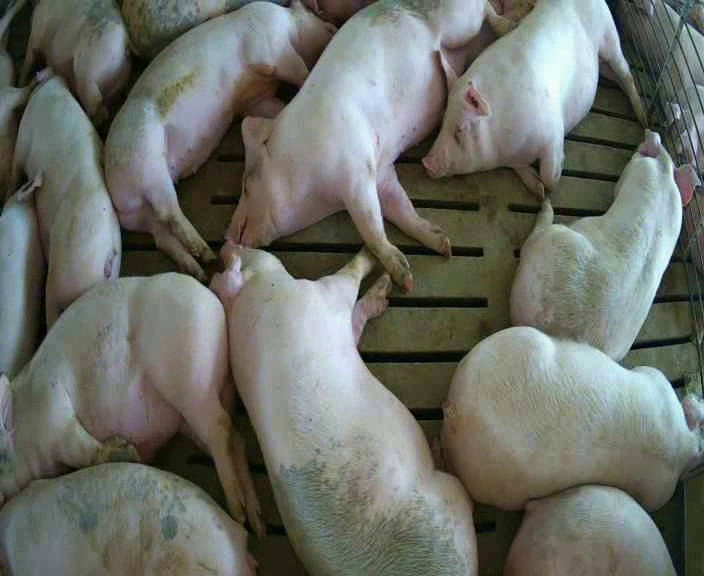pig: (227, 1, 533, 290), (211, 242, 476, 574), (0, 273, 262, 532), (104, 2, 335, 278), (443, 326, 703, 509), (511, 130, 702, 360), (423, 3, 644, 196), (5, 66, 120, 326), (504, 485, 675, 574), (20, 2, 130, 122), (0, 171, 44, 375), (121, 1, 243, 59)
